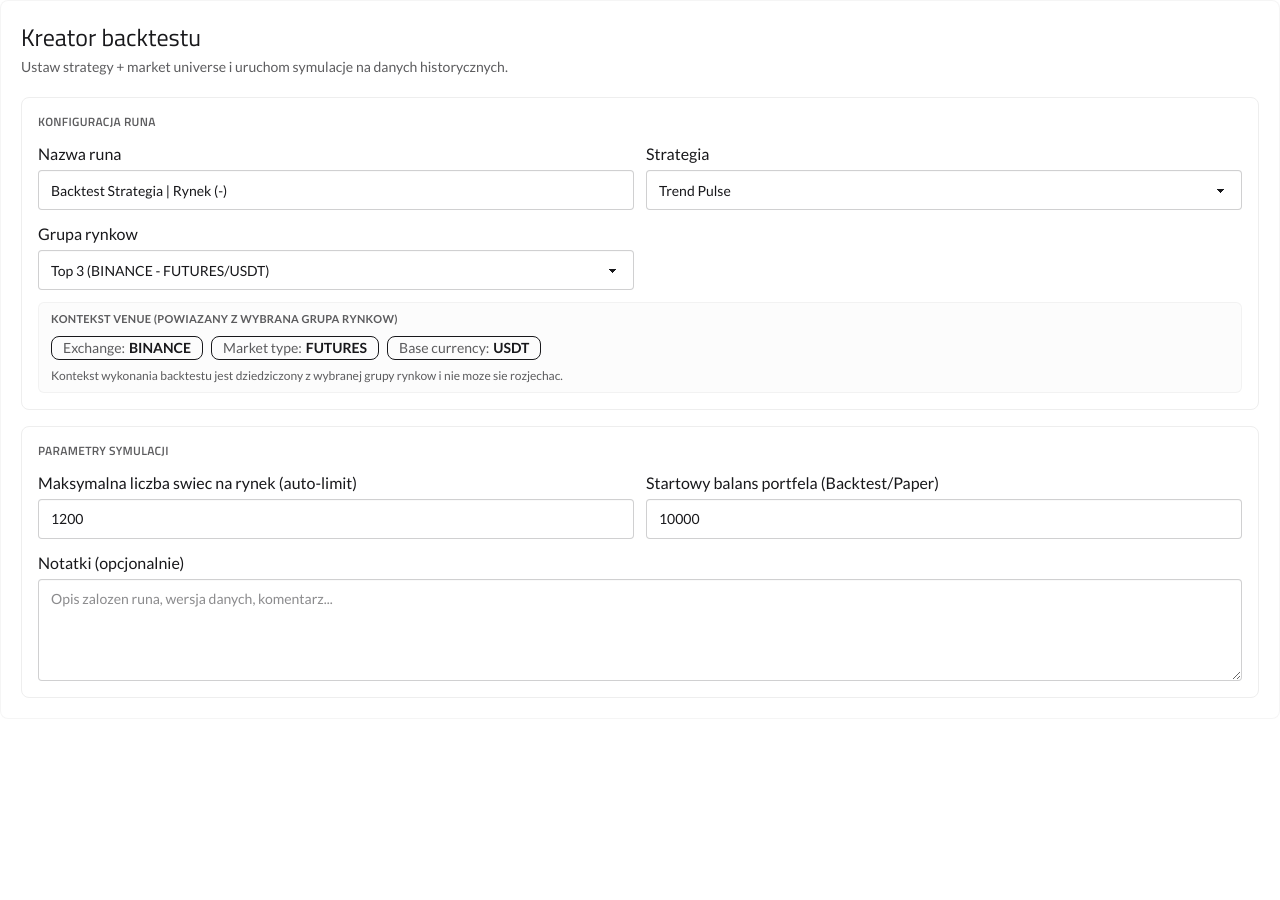
BacktestCreateForm › disables submit and shows validation when maxCandles is out of range
Expected: the dropdown showing "Trend Pulse" is shown, [646,170,1242,210]
In the number field with placeholder "1200": (336, 518) [38,498,634,538], type "10"
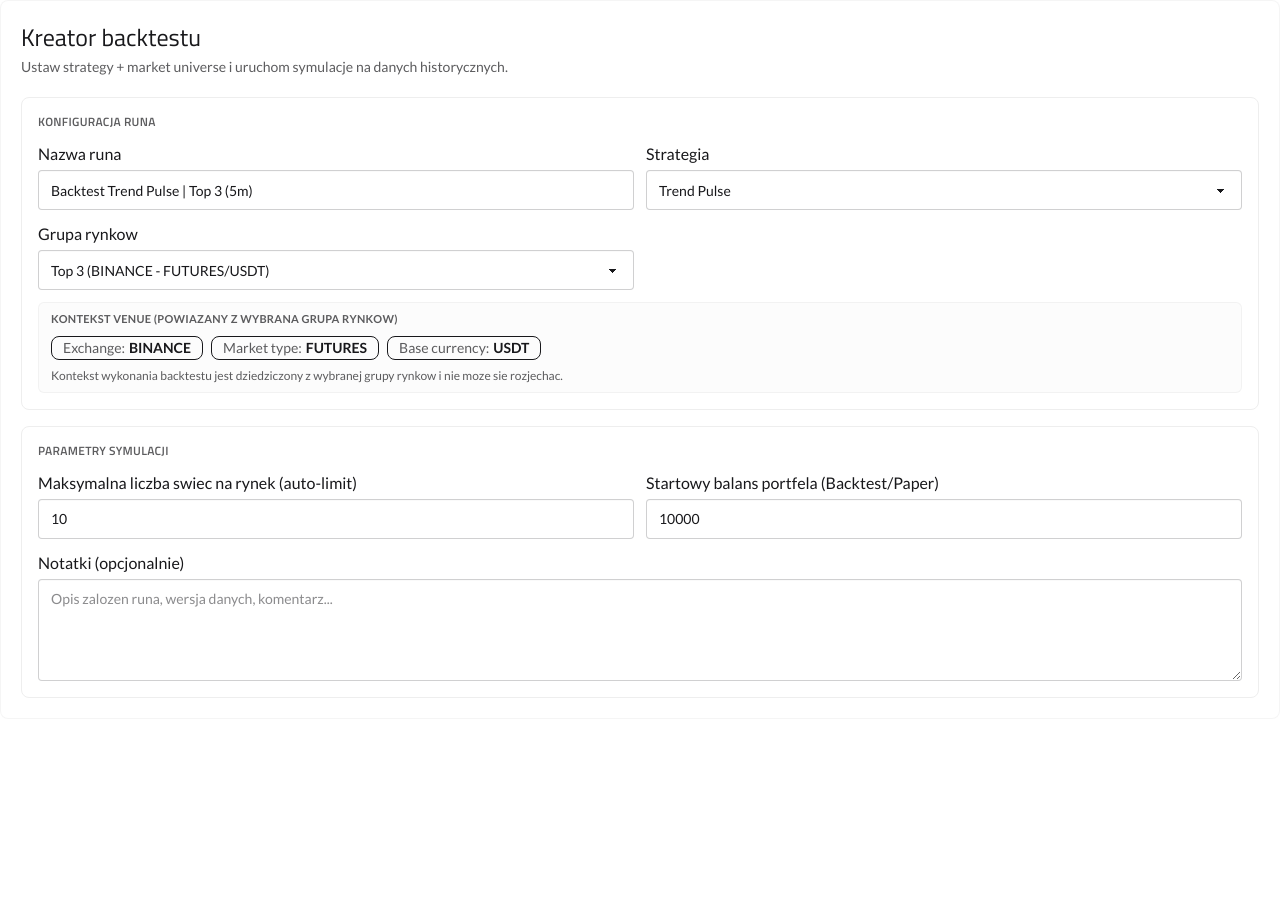
Expected: the text "Podaj liczbe z zakresu 100 - 10000." is not shown
Submit the form
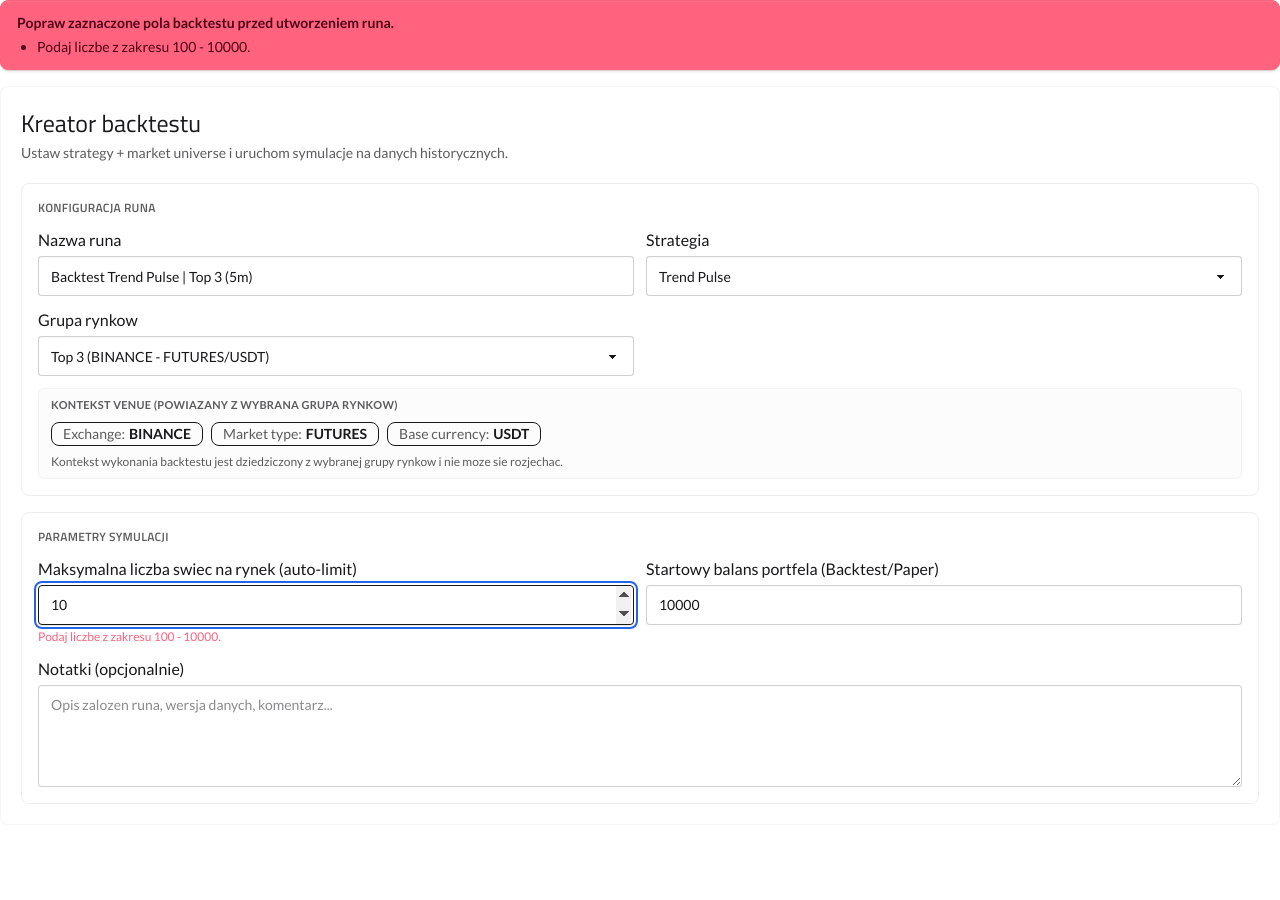
Expected: the list item "Podaj liczbe z zakresu 100 - 10000." is shown, [37,38,250,55]
Expected: the message with test id "form-validation-summary" is shown, [0,0,1279,70]
